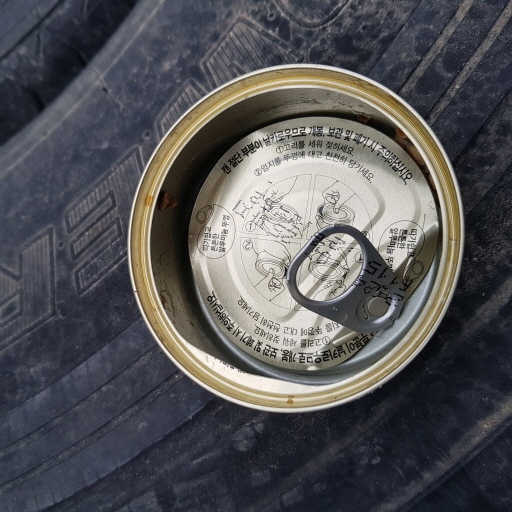Metal_1: (125, 64, 467, 417)
